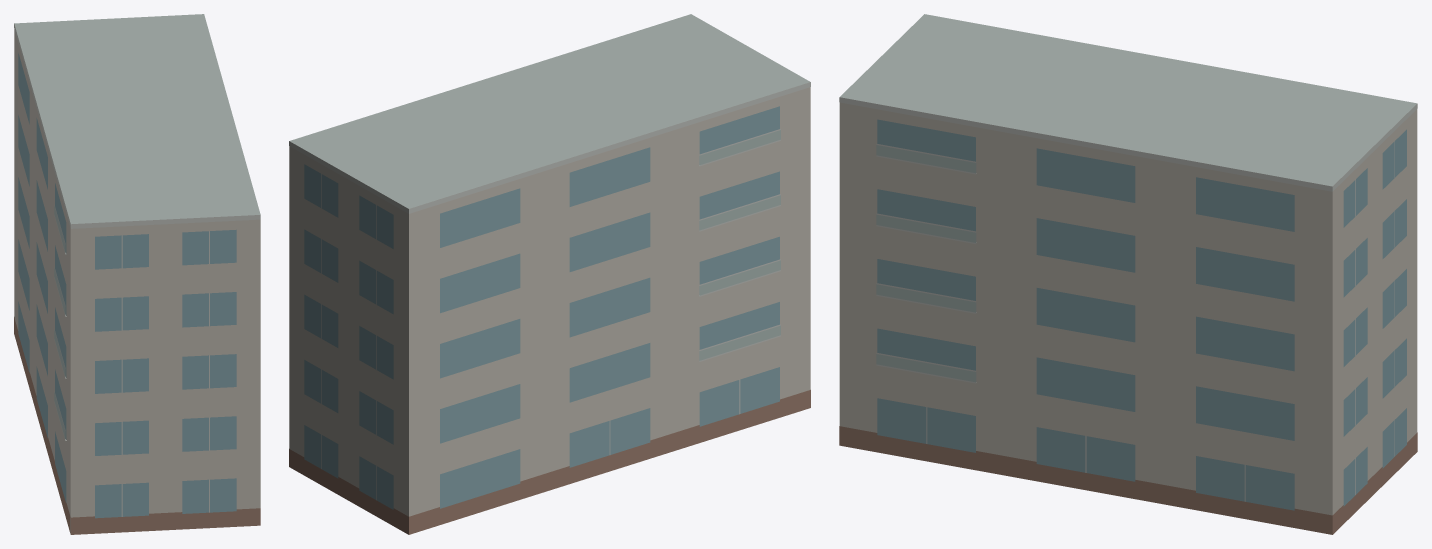
File: survey-upis-32532833.glb
3 renders of one model, left to right at view 1: azimuth 30°, elevation 25°; view 2: azimuth 150°, elevation 25°; view 3: azimuth 270°, elevation 25°, orthographic. The views are drawn at different scales.
Parts seen in each view (by area): view 1: survey-upis-32532833.tmp; view 2: survey-upis-32532833.tmp; view 3: survey-upis-32532833.tmp.
Part boxes in pixels (<box>): survey-upis-32532833.tmp: <box>14,14,260,534</box>; survey-upis-32532833.tmp: <box>289,14,810,534</box>; survey-upis-32532833.tmp: <box>839,14,1417,534</box>.
Bounding box in the file's own units: 17 × 16 × 24.07.
